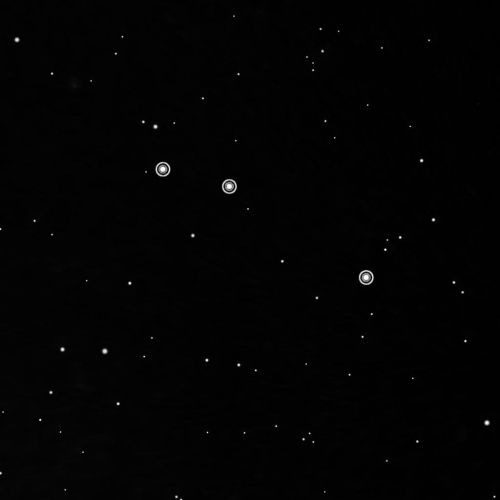vulpecula: (152, 155, 380, 289)
